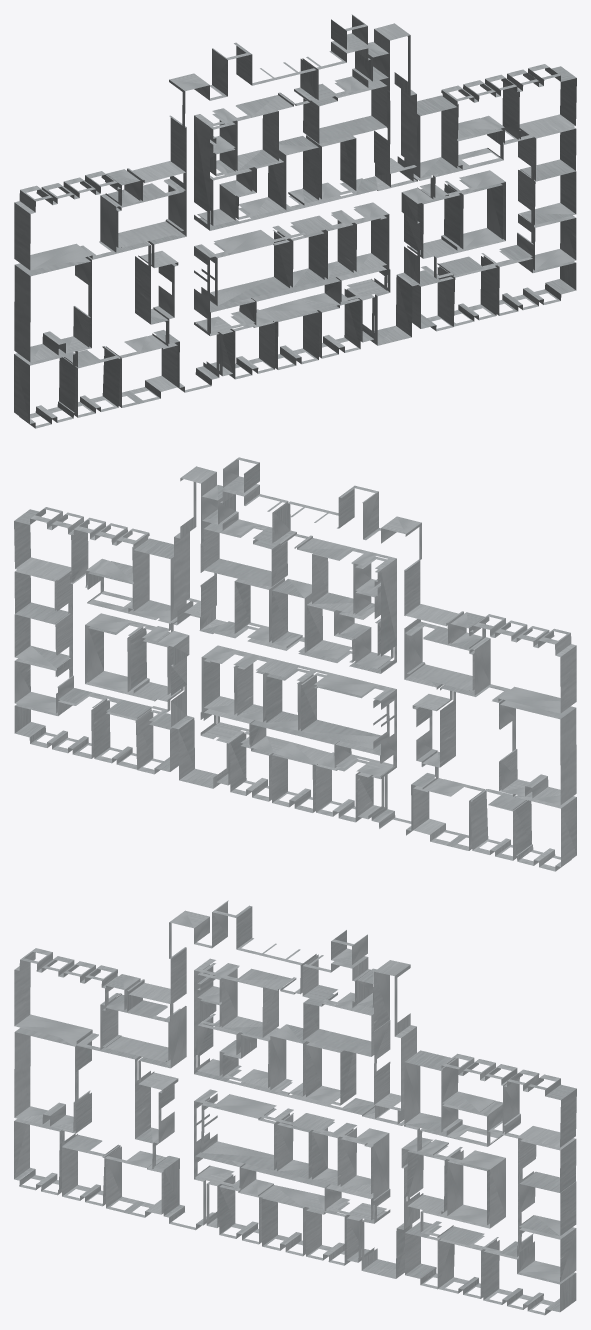
3 views of the same model, one above another, from view 1: azimuth 30°, elevation 25°; view 2: azimuth 150°, elevation 25°; view 3: azimuth 330°, elevation 25° (orthographic).
Parts seen in each view (by area): view 1: combined_model; view 2: combined_model; view 3: combined_model.
Part boxes in pixels (x1,y1,x2,y2): combined_model: (14, 14, 576, 428); combined_model: (14, 457, 576, 871); combined_model: (14, 900, 576, 1315).
Bounding box in the file's own units: 47.28 × 26.61 × 2.4.
Materials: 1 (1 with a texture image).
